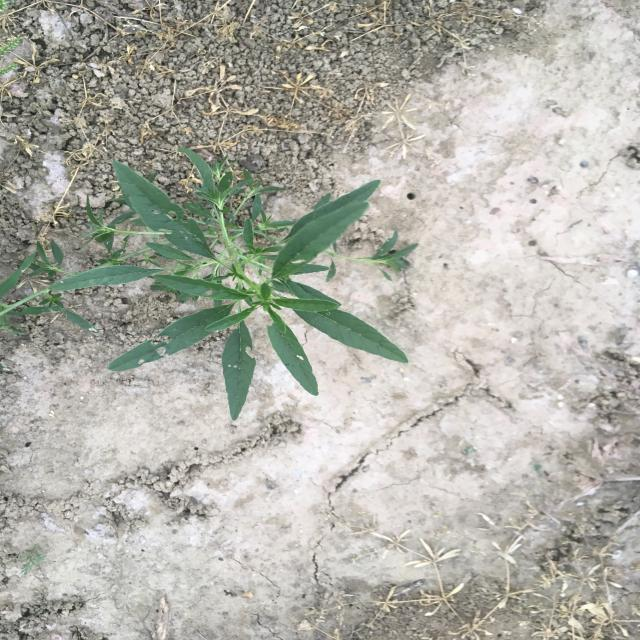Waterhemp: (1, 144, 422, 424)
